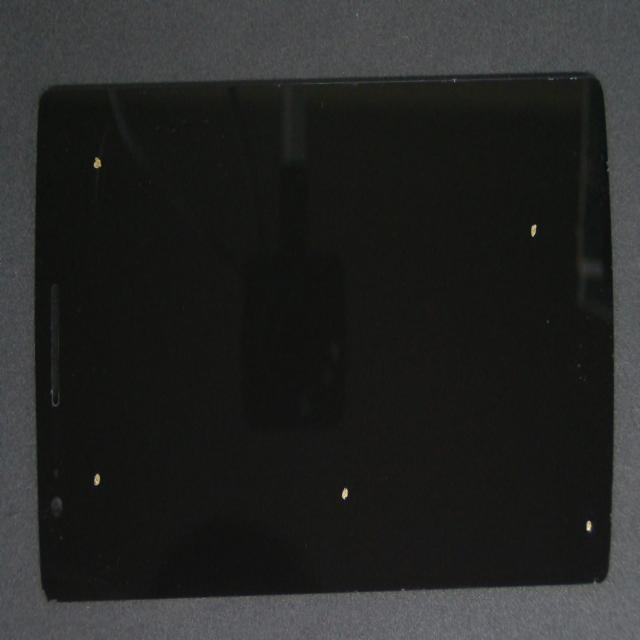stain: (138, 281, 513, 640), (306, 241, 640, 640), (284, 86, 640, 305), (14, 275, 143, 640), (52, 29, 132, 220)
